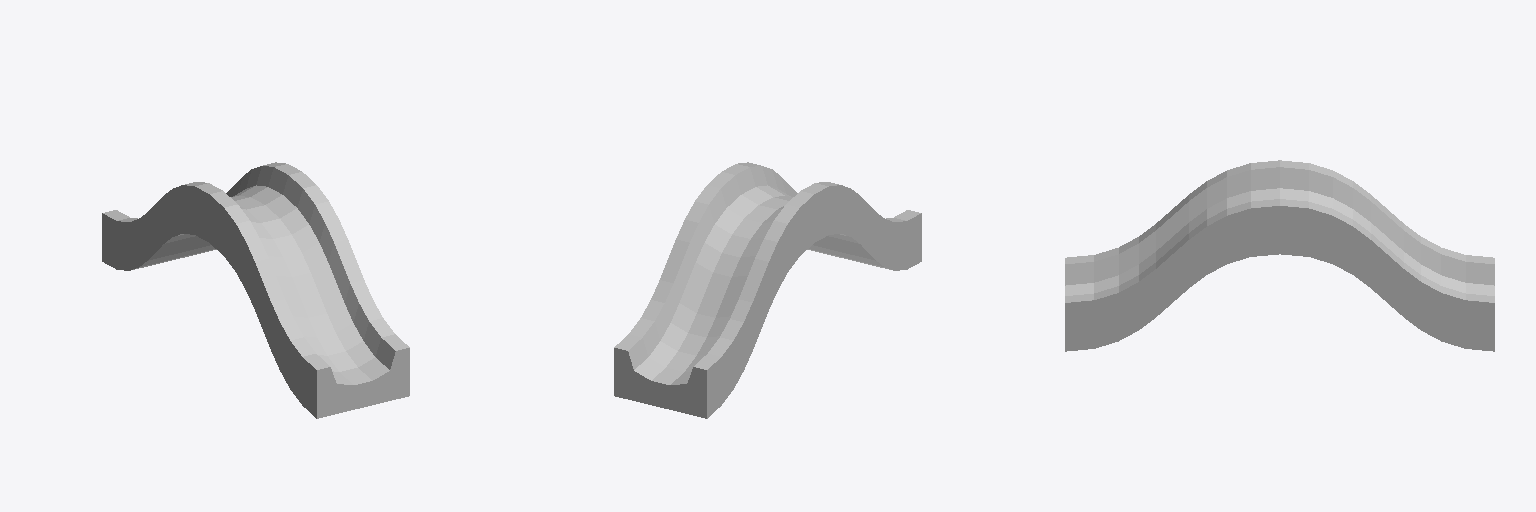
Rendered from bump-c.obj.
3 renders of one model, left to right at view 1: azimuth 30°, elevation 25°; view 2: azimuth 150°, elevation 25°; view 3: azimuth 270°, elevation 25°, orthographic.
Parts seen in each view (by area): view 1: bump-c; view 2: bump-c; view 3: bump-c.
Part boxes in pixels (bbox=[...]): bump-c: bbox=[102, 162, 409, 418]; bump-c: bbox=[614, 162, 921, 418]; bump-c: bbox=[1065, 160, 1494, 351].
Size of the model in its own units: 1 by 1.5 by 4.